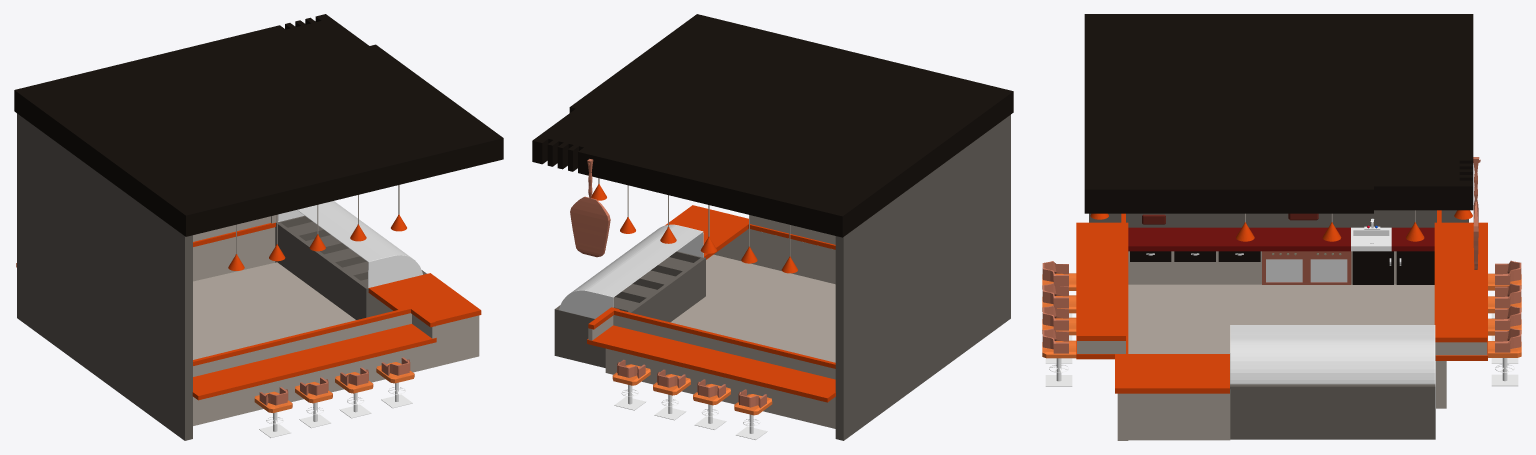
File: Food bar.fbx
3 views of the same model, side by side, from view 1: azimuth 30°, elevation 25°; view 2: azimuth 150°, elevation 25°; view 3: azimuth 270°, elevation 25° (orthographic). The views are drawn at different scales.
Parts seen in each view (by area): view 1: Cube.070, Cube.004, Cube.006, Cube.003, Cube.002, Cube.008, Cube.241, Cube.065, Cube.066, Cube, Cube.110, Cube.109 (+4 smaller); view 2: Cube.070, Cube.004, Cube.006, Cube.002, Cube.007, Cube.065, Cube.242, Cube, Cube.003, Cube.005, Cube.066, Cube.139 (+5 smaller); view 3: Cube.070, Cube.006, Cube.076, Cube.065, Cube.002, Cube.007, Cube.008, Cube.069, Cube.004, Cube.066, Cube.242, Cube.241 (+13 smaller).
Part boxes in pixels (x1,y1,x2,y2): Cube.070: [14, 14, 503, 236]; Cube.004: [17, 113, 192, 440]; Cube.006: [193, 262, 355, 359]; Cube.003: [193, 315, 479, 425]; Cube.002: [275, 215, 426, 319]; Cube.008: [192, 324, 436, 400]; Cube.241: [193, 306, 435, 376]; Cube.065: [278, 201, 422, 288]; Cube.066: [368, 273, 481, 325]; Cube: [193, 227, 275, 281]; Cube.110: [254, 387, 292, 437]; Cube.109: [376, 357, 414, 408]; Cube.070: [532, 14, 1013, 237]; Cube.004: [835, 115, 1010, 440]; Cube.006: [670, 254, 835, 362]; Cube.002: [554, 251, 705, 367]; Cube.007: [587, 325, 835, 402]; Cube.065: [559, 224, 703, 318]; Cube.242: [588, 307, 835, 379]; Cube: [605, 348, 835, 428]; Cube.003: [714, 228, 835, 284]; Cube.005: [570, 159, 610, 257]; Cube.066: [665, 205, 748, 259]; Cube.139: [612, 359, 650, 410]; Cube.070: [1084, 14, 1473, 213]; Cube.006: [1128, 284, 1434, 353]; Cube.076: [1128, 227, 1434, 284]; Cube.065: [1230, 325, 1435, 384]; Cube.002: [1230, 353, 1435, 439]; Cube.007: [1434, 222, 1487, 360]; Cube.008: [1076, 222, 1128, 359]; Cube.069: [1128, 389, 1230, 440]; Cube.004: [1089, 210, 1468, 227]; Cube.066: [1115, 354, 1229, 393]; Cube.242: [1435, 210, 1487, 355]; Cube.241: [1077, 213, 1125, 353].
Size of the model in its own units: 780 by 533 by 900.
